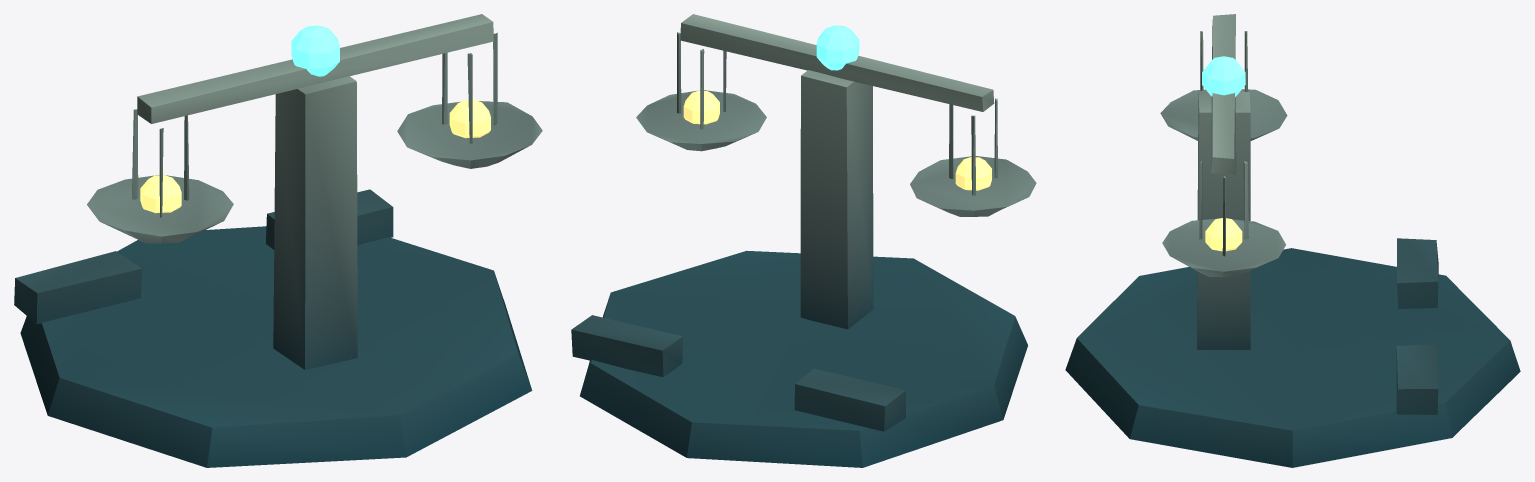
The model's file is ruin_station_scale.glb.
3 renders of one model, left to right at view 1: azimuth 30°, elevation 25°; view 2: azimuth 150°, elevation 25°; view 3: azimuth 270°, elevation 25°, orthographic. The views are drawn at different scales.
Visible parts, largest first — view 1: ruin_station_scale_stone, ruin_station_scale_warm, ruin_station_scale_glow; view 2: ruin_station_scale_stone, ruin_station_scale_warm, ruin_station_scale_glow; view 3: ruin_station_scale_stone, ruin_station_scale_glow, ruin_station_scale_warm.
Part boxes in pixels (x1=…): ruin_station_scale_stone: x1=14, y1=14, x2=542, y2=467; ruin_station_scale_warm: x1=140, y1=99, x2=490, y2=213; ruin_station_scale_glow: x1=291, y1=25, x2=339, y2=76; ruin_station_scale_stone: x1=571, y1=14, x2=1036, y2=467; ruin_station_scale_warm: x1=683, y1=90, x2=991, y2=190; ruin_station_scale_glow: x1=816, y1=25, x2=859, y2=70; ruin_station_scale_stone: x1=1065, y1=14, x2=1520, y2=467; ruin_station_scale_glow: x1=1202, y1=56, x2=1245, y2=96; ruin_station_scale_warm: x1=1205, y1=218, x2=1242, y2=251.
Bounding box in the file's own units: 7.99 × 6.07 × 7.98.
